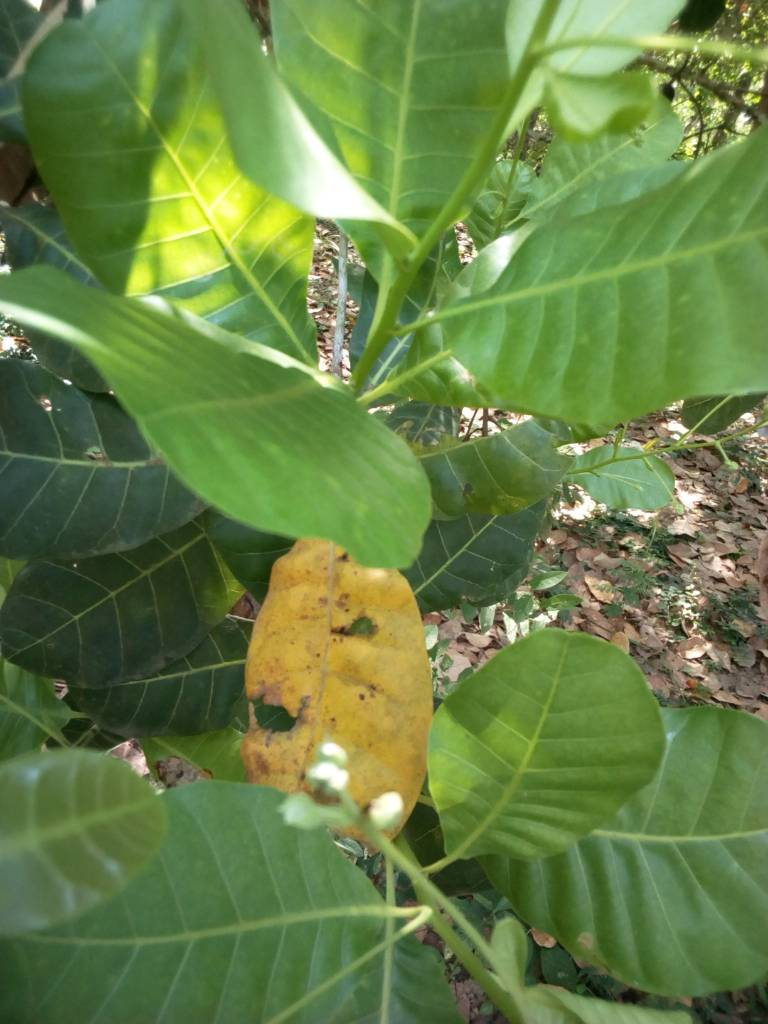Bactériose: (254, 549, 429, 814)
